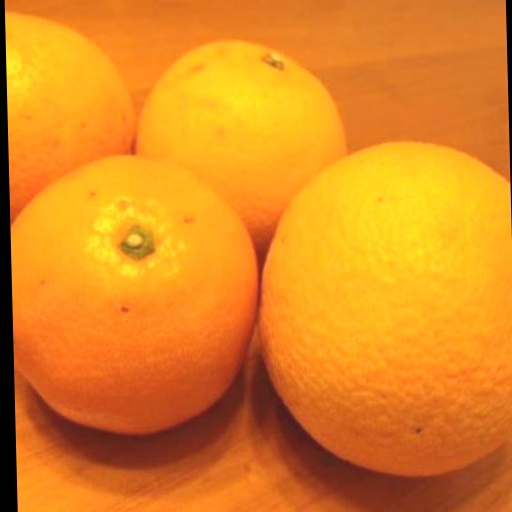fruit: (260, 143, 512, 475), (11, 157, 257, 433), (137, 42, 344, 254), (5, 13, 133, 221)
